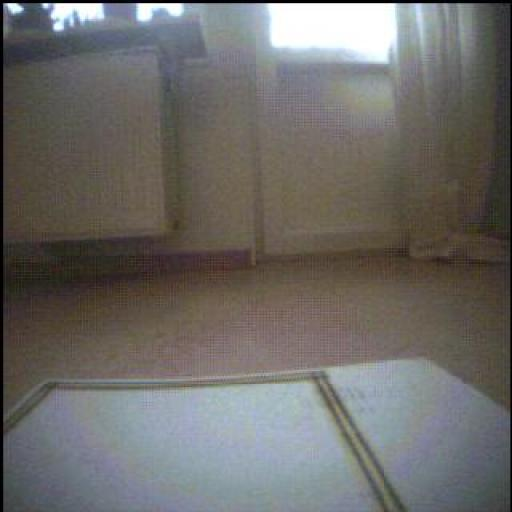Pad: (4, 361, 510, 512), (328, 359, 512, 512)
